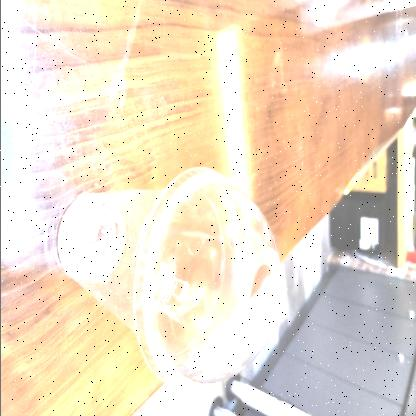Others: (128, 168, 288, 388)
